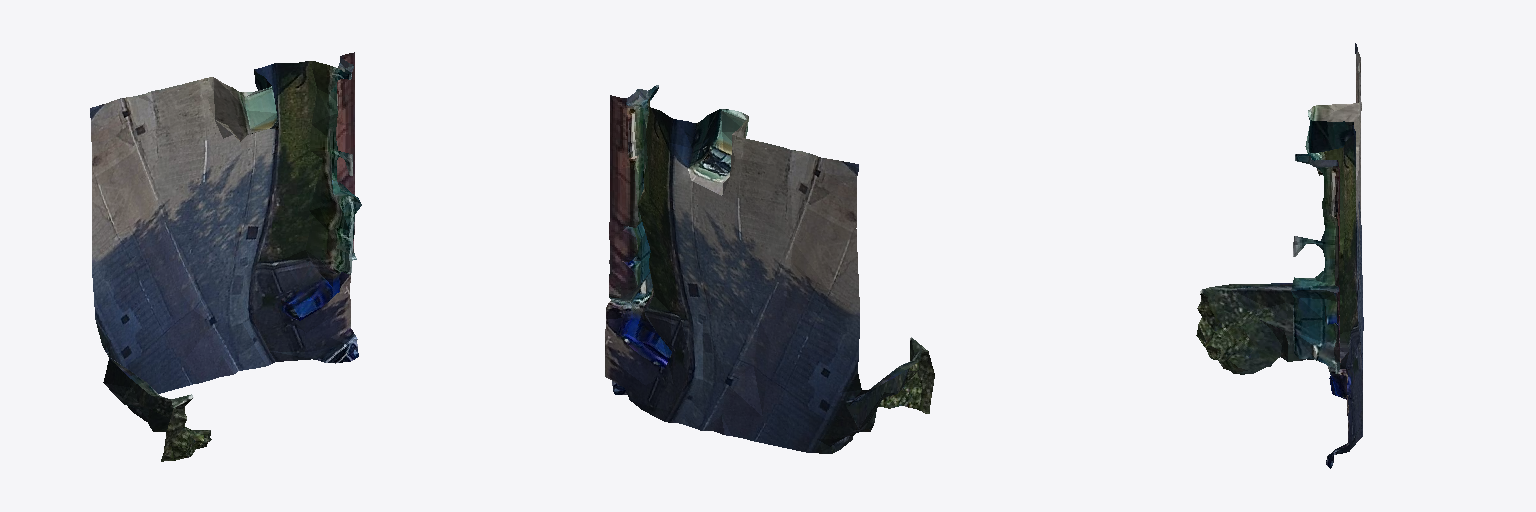
3 views of the same model, side by side, from view 1: azimuth 30°, elevation 25°; view 2: azimuth 150°, elevation 25°; view 3: azimuth 270°, elevation 25° (orthographic).
Parts seen in each view (by area): view 1: obj_0; view 2: obj_0; view 3: obj_0.
Part boxes in pixels (left/top/right/bottom): obj_0: left=90, top=52, right=361, bottom=461; obj_0: left=605, top=85, right=934, bottom=453; obj_0: left=1196, top=43, right=1363, bottom=468.
Bounding box in the file's own units: 20.07 × 22.53 × 11.31.
1 materials, 1 textured.